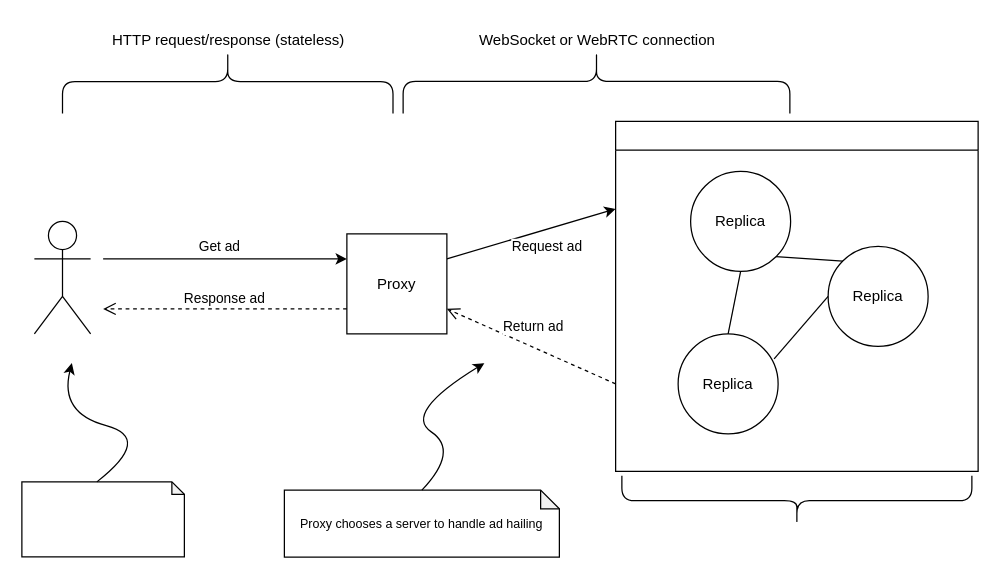
Image size: 1000x580. Some labels were removed from this diagram. The shapes that lost their labels are listed below. From the top down, each one's box as (x1, y1, x2, y2) in pixels, then its label:
(33, 220, 91, 334): Client
(614, 120, 978, 471): Server
(21, 481, 184, 557): Client is a webpage who iframes '/ad' endpoint
(621, 474, 972, 526): p2p connection between servers
